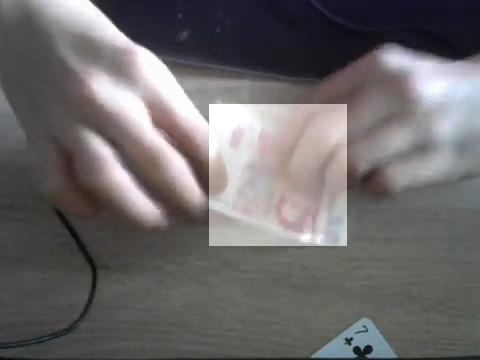5leva: (209, 104, 347, 246)
